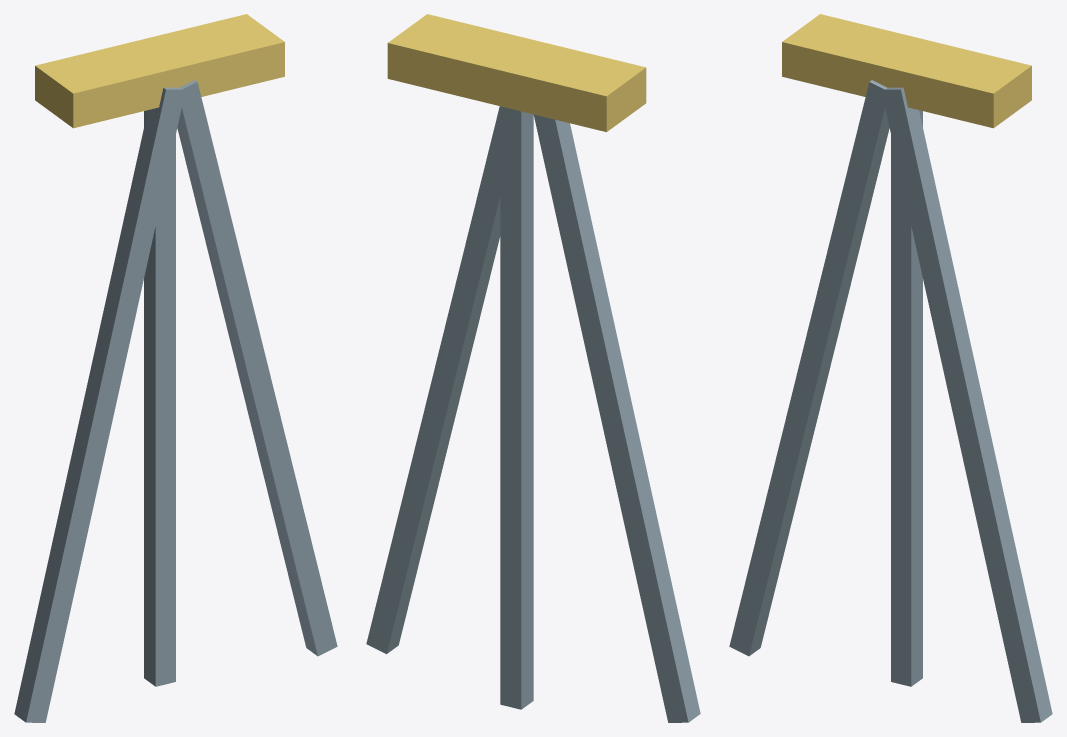
Rendered from tripod_lod0.glb.
3 views of the same model, side by side, from view 1: azimuth 30°, elevation 25°; view 2: azimuth 150°, elevation 25°; view 3: azimuth 330°, elevation 25° (orthographic). The views are drawn at different scales.
Parts seen in each view (by area): view 1: part_1, part_2, part_0, part_3; view 2: part_1, part_3, part_0, part_2; view 3: part_2, part_1, part_0, part_3.
Boxes of the visible parts, <box> form: part_1: <box>14,87,185,722</box>; part_2: <box>177,80,337,656</box>; part_0: <box>35,14,284,128</box>; part_3: <box>144,110,175,686</box>; part_1: <box>533,114,700,722</box>; part_3: <box>500,106,533,709</box>; part_0: <box>387,14,646,132</box>; part_2: <box>366,106,500,654</box>; part_2: <box>884,87,1052,722</box>; part_1: <box>729,80,889,656</box>; part_0: <box>782,14,1031,128</box>; part_3: <box>891,110,922,686</box>.
Bounding box in the file's own units: 1.69 × 3.25 × 0.385.
